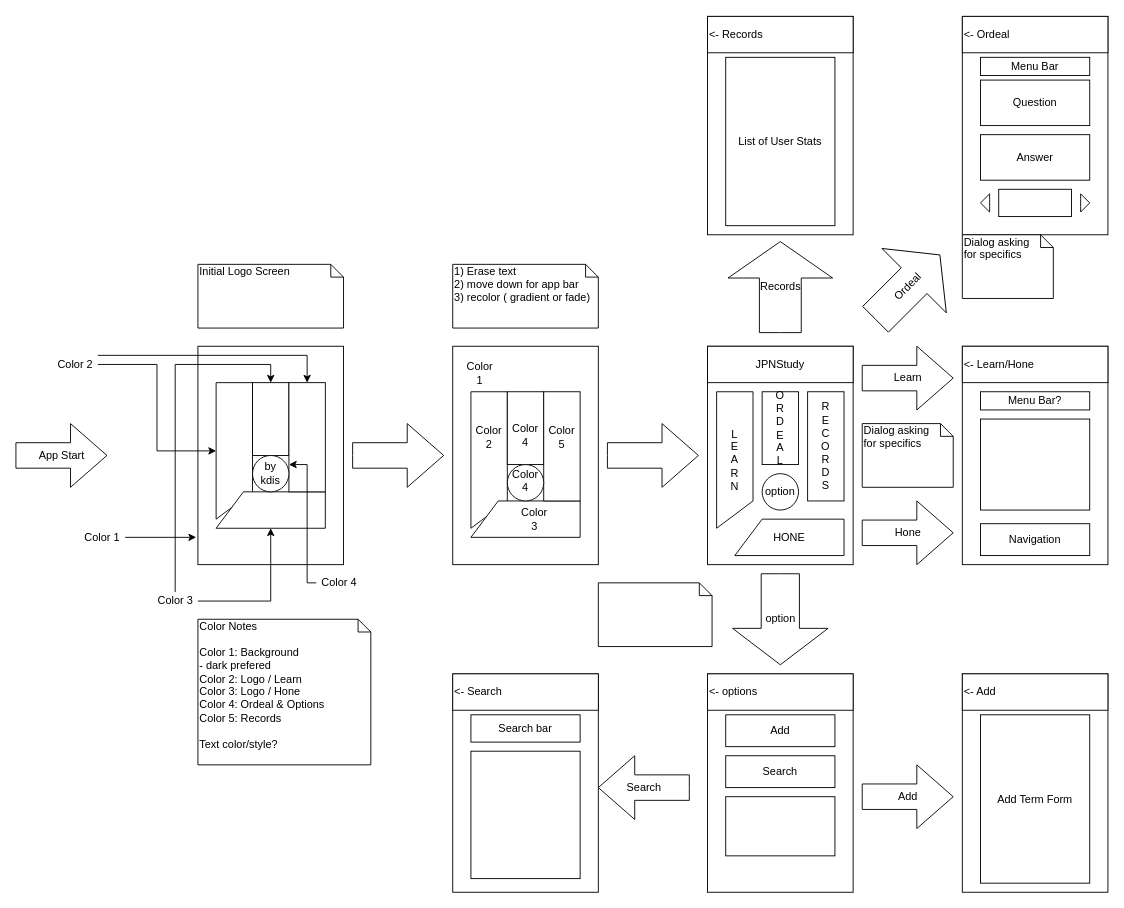
Image size: 1124x908. Some labels were removed from this diagram. The centre of each missing label's shape, as x and y in pixels:
"ben kyou" goes at [270,418].
"Card Count" goes at [1035,202].
"Database stuff" goes at [780,826].
"Do some cool transitions Like expand or fall in?" goes at [654,614].
"J P N S" goes at [234,450].
"List" goes at [525,814].
"Ni Hon Go" goes at [306,437].
"Study" goes at [270,509].
"WORD" goes at [1035,464].
